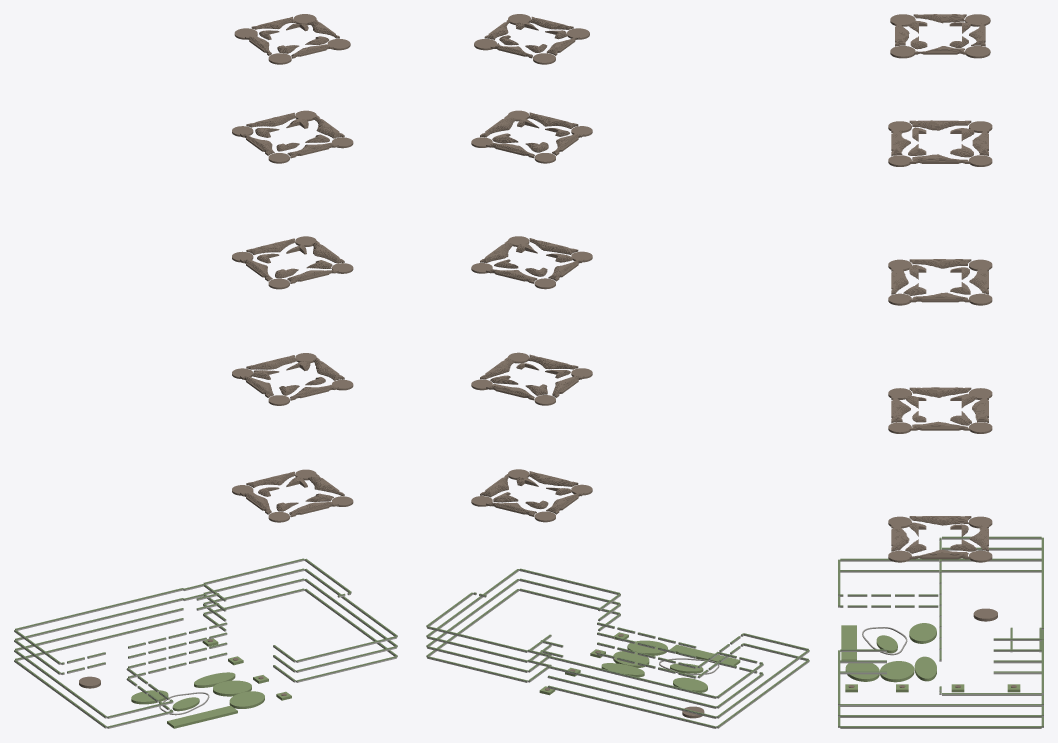
The model's file is pflanzen.glb.
3 views of the same model, side by side, from view 1: azimuth 30°, elevation 25°; view 2: azimuth 150°, elevation 25°; view 3: azimuth 270°, elevation 25° (orthographic). The views are drawn at different scales.
Parts seen in each view (by area): view 1: pflanzen; view 2: pflanzen; view 3: pflanzen.
Part boxes in pixels (x1,y1,x2,y2): pflanzen: (14, 14, 397, 728); pflanzen: (426, 14, 809, 728); pflanzen: (838, 14, 1043, 728).
Bounding box in the file's own units: 147 × 298 × 81.2.
